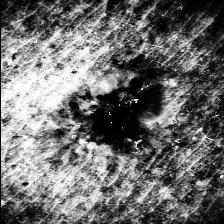Potentially Malignant Skin Tumors: (62, 78, 168, 144)
